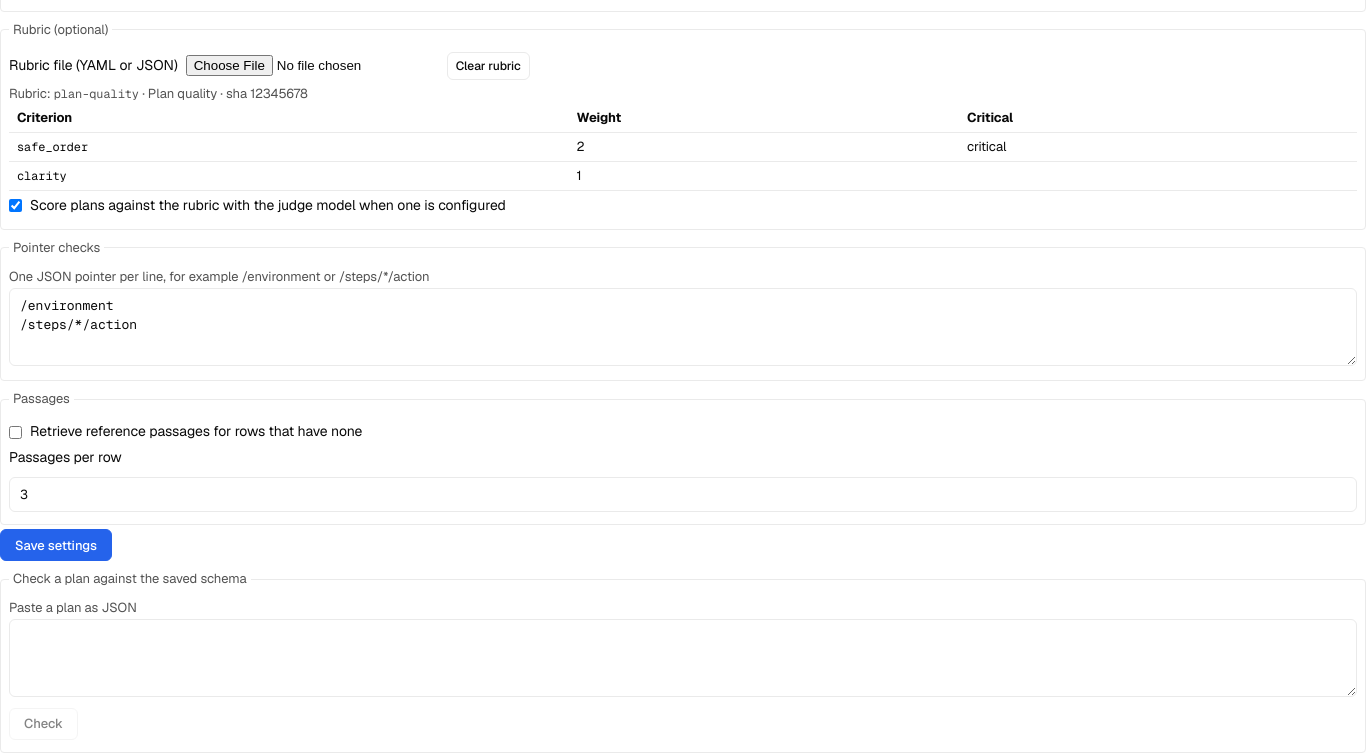
Test: StructuredPlanConfigCard › shows the 422 errors from metadata.errors
(page scrolled)
Step 1. Click the button with test id "sp-save" → (56, 545), box [0,529,112,561]
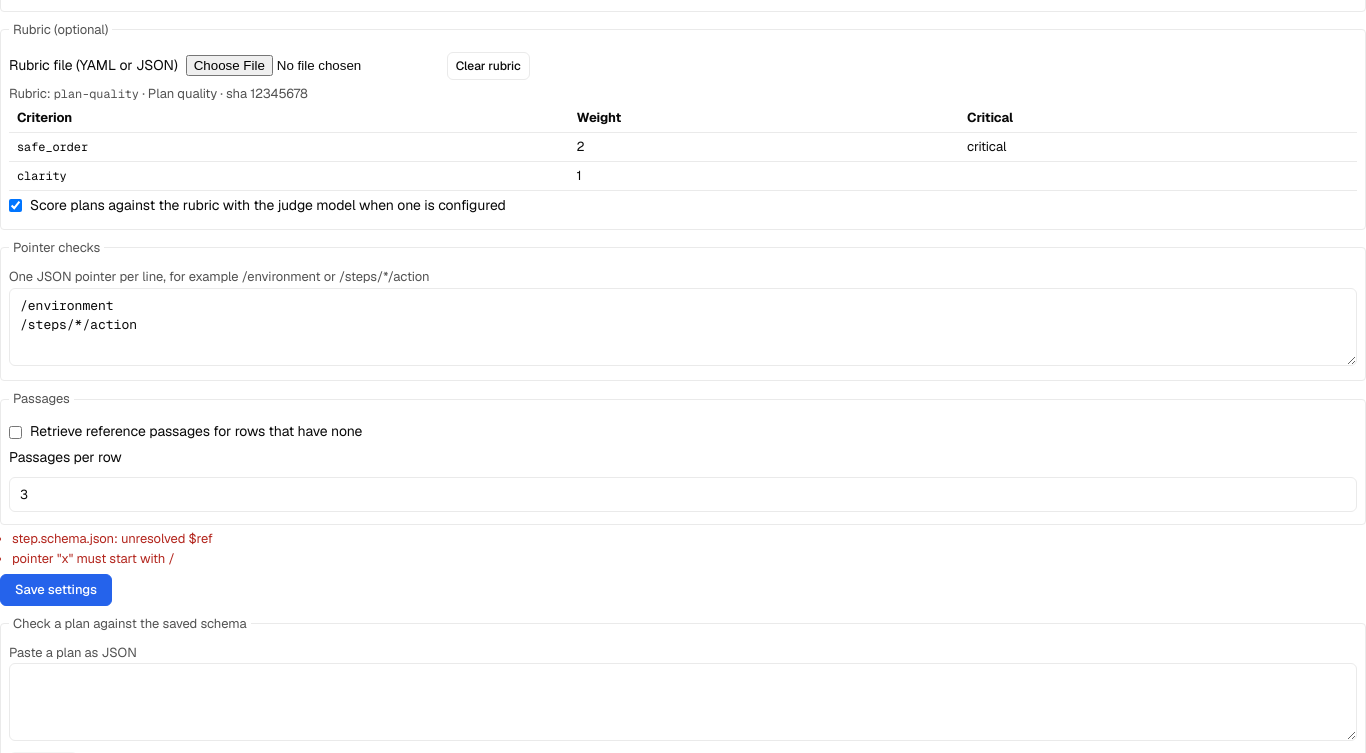
Check: the list with test id "sp-save-errors" shows "unresolved $ref", box [12,530,213,547]
Check: the list with test id "sp-save-errors" shows "must start with /", box [12,550,175,567]
